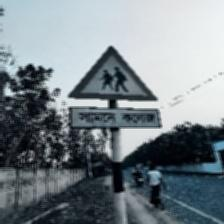College-in-front: (65, 41, 181, 154)
